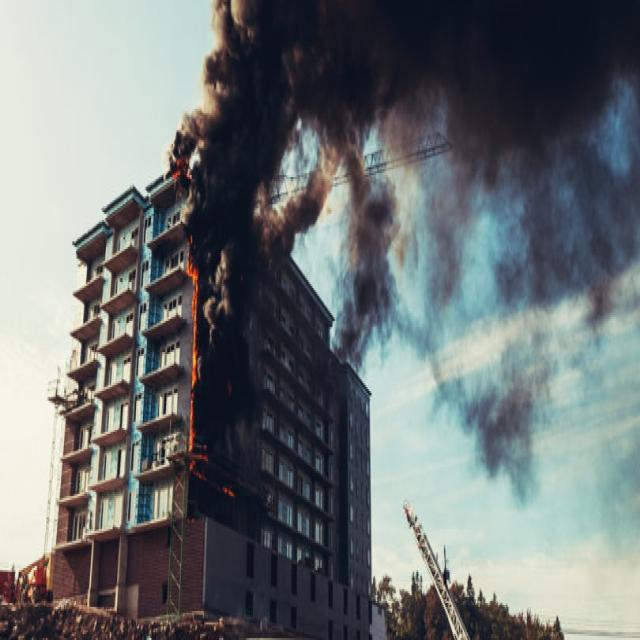Smoke: (260, 0, 636, 175), (188, 86, 256, 488)
